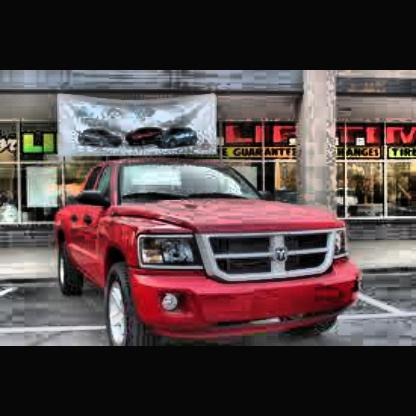Dodge Dakota Crew Cab 2010: (54, 156, 362, 346)
